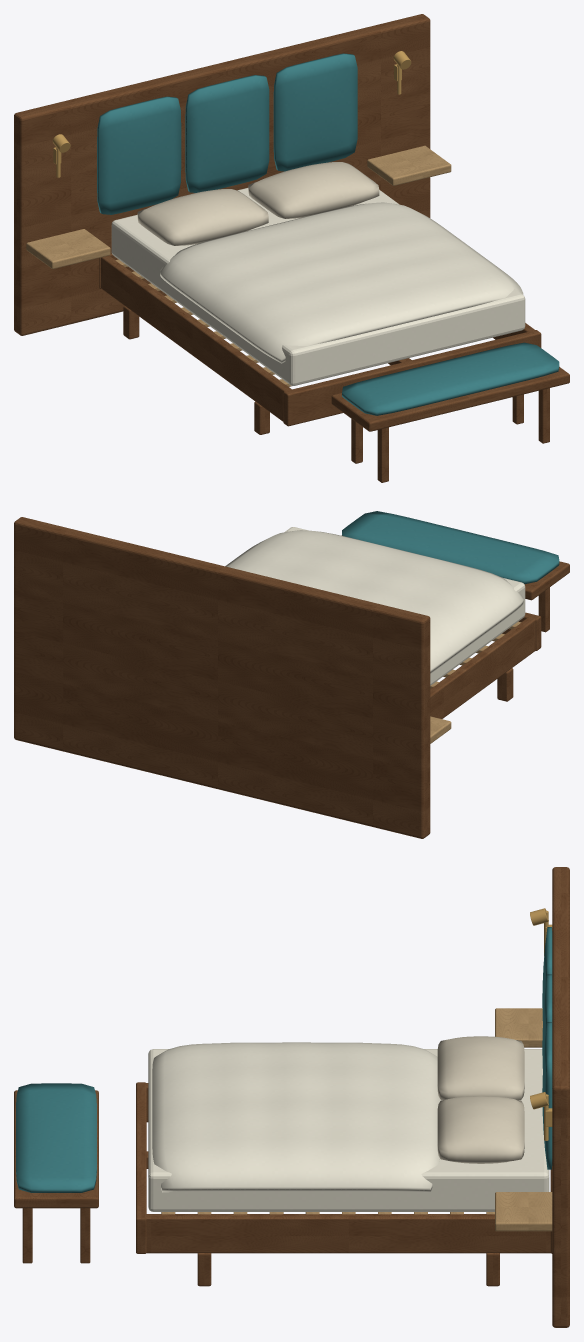
3 renders of one model, top to bottom at view 1: azimuth 30°, elevation 25°; view 2: azimuth 150°, elevation 25°; view 3: azimuth 270°, elevation 25°, orthographic. The views are drawn at different scales.
Parts seen in each view (by area): view 1: Wide hotel headboard, Quilted closed duvet, Nominal dimensioned mattress, Headboard closed channel.001, Headboard closed channel, Headboard closed channel.002, Bench closed upholstered cushion, Bed side rail, Plump pillow with closed seams, Plump pillow with closed seams.001, Bed end rail, Bench seat frame (+4 smaller); view 2: Wide hotel headboard, Quilted closed duvet, Bench closed upholstered cushion, Bed side rail, Nominal dimensioned mattress, Bench seat frame, Rounded furniture foot, Bench timber foot; view 3: Quilted closed duvet, Bed side rail.001, Nominal dimensioned mattress, Bench closed upholstered cushion, Wide hotel headboard, Plump pillow with closed seams.001, Plump pillow with closed seams, Integrated headboard night shelf.001, Bench seat frame, Bed end rail, Integrated headboard night shelf, Headboard closed channel.002 (+2 smaller).
Part boxes in pixels (left/top/right/bottom): Wide hotel headboard: left=14, top=14, right=430, bottom=335; Quilted closed duvet: left=160, top=202, right=523, bottom=363; Nominal dimensioned mattress: left=111, top=188, right=525, bottom=385; Headboard closed channel.001: left=185, top=75, right=269, bottom=192; Headboard closed channel: left=97, top=96, right=181, bottom=214; Headboard closed channel.002: left=273, top=53, right=357, bottom=171; Bench closed upholstered cushion: left=342, top=342, right=559, bottom=415; Bed side rail: left=101, top=255, right=291, bottom=421; Plump pillow with closed seams: left=137, top=189, right=268, bottom=245; Plump pillow with closed seams.001: left=248, top=162, right=379, bottom=218; Bed end rail: left=283, top=330, right=541, bottom=426; Bench seat frame: left=331, top=367, right=569, bottom=431; Wide hotel headboard: left=14, top=517, right=430, bottom=838; Quilted closed duvet: left=225, top=530, right=523, bottom=673; Bench closed upholstered cushion: left=342, top=511, right=559, bottom=584; Bed side rail: left=430, top=615, right=536, bottom=718; Nominal dimensioned mattress: left=284, top=527, right=525, bottom=685; Bench seat frame: left=342, top=535, right=569, bottom=600; Rounded furniture foot: left=497, top=668, right=513, bottom=701; Bench timber foot: left=538, top=587, right=549, bottom=632; Quilted closed duvet: left=152, top=1042, right=440, bottom=1192; Bed side rail.001: left=145, top=1214, right=550, bottom=1253; Nominal dimensioned mattress: left=148, top=1049, right=549, bottom=1211; Bench closed upholstered cushion: left=16, top=1083, right=96, bottom=1192; Wide hotel headboard: left=552, top=867, right=569, bottom=1327; Plump pillow with closed seams.001: left=437, top=1096, right=524, bottom=1163; Plump pillow with closed seams: left=437, top=1036, right=524, bottom=1099; Integrated headboard night shelf.001: left=495, top=1192, right=552, bottom=1231; Bench seat frame: left=14, top=1090, right=98, bottom=1208; Bed end rail: left=136, top=1082, right=146, bottom=1253; Integrated headboard night shelf: left=495, top=1008, right=542, bottom=1047; Headboard closed channel.002: left=542, top=1022, right=552, bottom=1169.
Bounding box in the file's own units: 2.65 × 1.35 × 2.82.
Materials: 6 (6 with a texture image).
